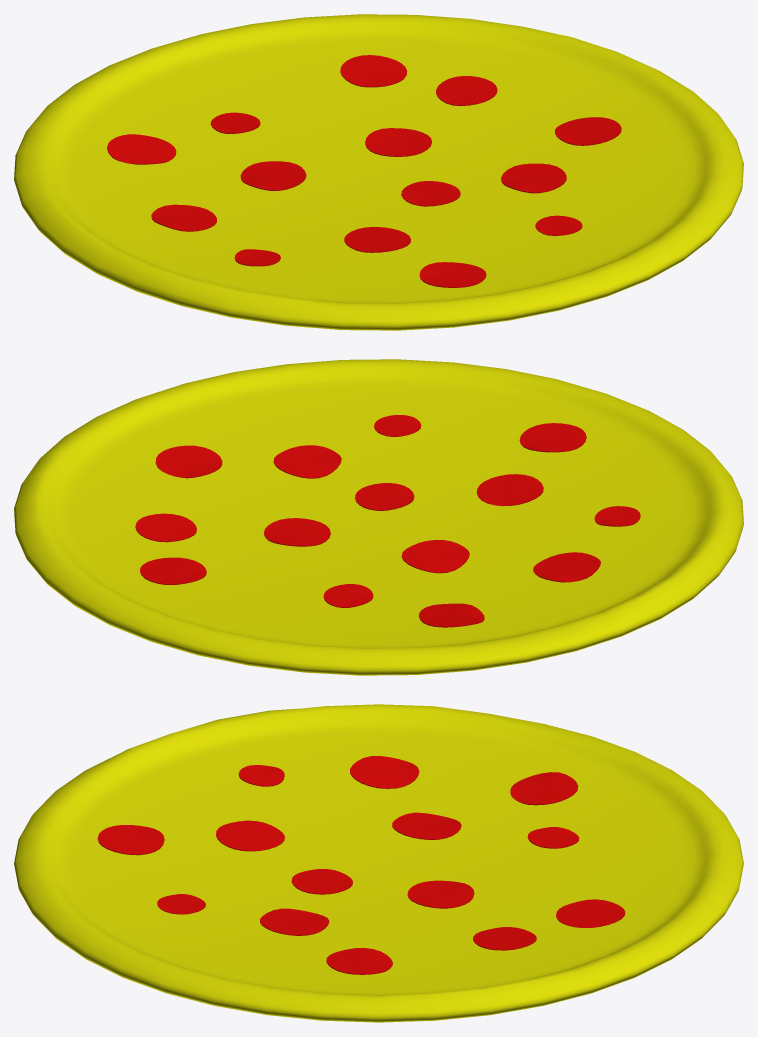
Rendered from Pizza_import.fbx.
The picture shows the model from 3 angles, top to bottom: view 1: azimuth 30°, elevation 25°; view 2: azimuth 150°, elevation 25°; view 3: azimuth 270°, elevation 25°; orthographic projection.
Parts seen in each view (by area): view 1: pizza; view 2: pizza; view 3: pizza.
Part boxes in pixels (bbox=[...]): pizza: bbox=[14, 14, 743, 330]; pizza: bbox=[14, 359, 743, 675]; pizza: bbox=[14, 704, 743, 1022].
Bounding box in the file's own units: 30.14 × 1.1 × 30.14.
